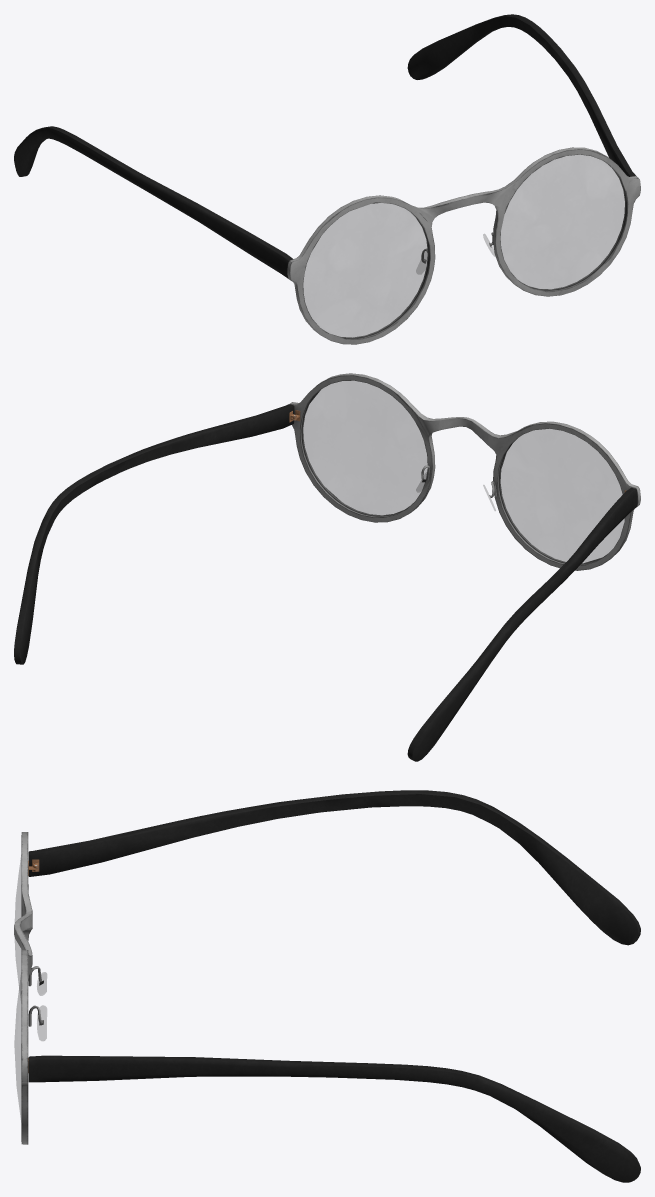
The model's file is round_spectacles.glb.
3 renders of one model, top to bottom at view 1: azimuth 30°, elevation 25°; view 2: azimuth 150°, elevation 25°; view 3: azimuth 270°, elevation 25°, orthographic. The views are drawn at different scales.
Parts seen in each view (by area): view 1: round_spectacles; view 2: round_spectacles; view 3: round_spectacles.
Boxes of the visible parts, <box> form: round_spectacles: <box>14,14,640,344</box>; round_spectacles: <box>14,373,640,761</box>; round_spectacles: <box>14,790,640,1182</box>.
Size of the model in its own units: 0.1578 by 0.0462 by 0.149.
Materials: 2 (2 with a texture image).
